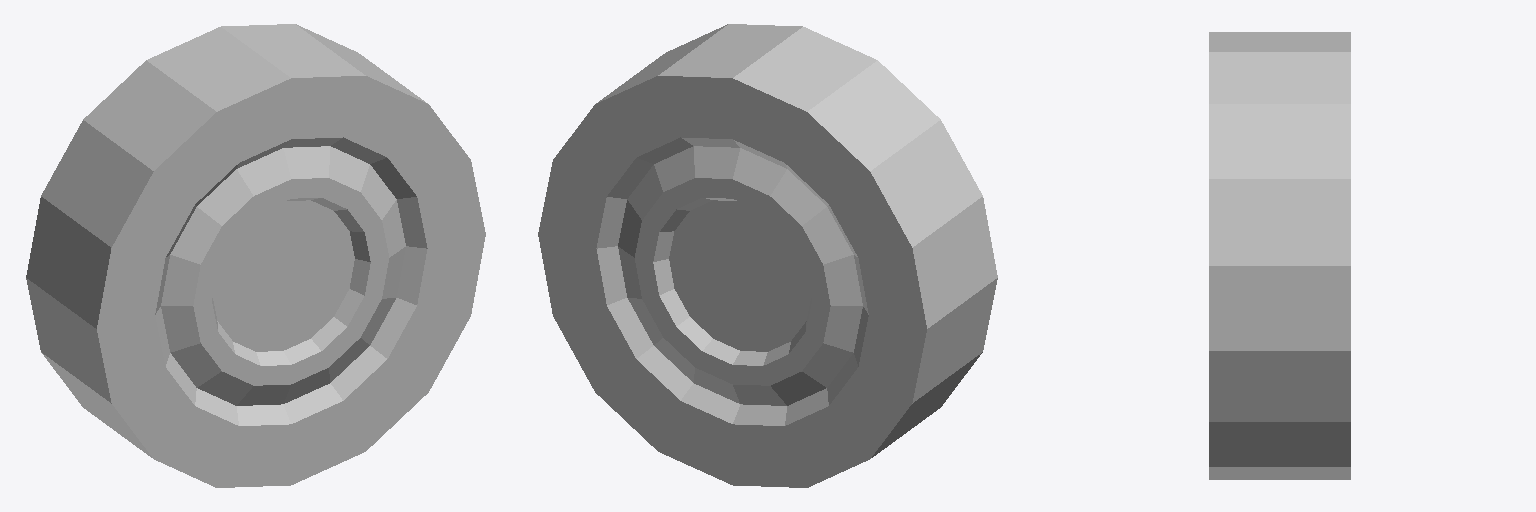
The model's file is vw-polo-wheel.obj.
3 renders of one model, left to right at view 1: azimuth 30°, elevation 25°; view 2: azimuth 150°, elevation 25°; view 3: azimuth 270°, elevation 25°, orthographic.
Visible parts, largest first — view 1: wheel_Circle; view 2: wheel_Circle; view 3: wheel_Circle.
Part boxes in pixels (x1,y1,x2,y2): wheel_Circle: (26,24,485,487); wheel_Circle: (538,24,997,487); wheel_Circle: (1209,32,1350,479).
Size of the model in its own units: 0.572 by 0.572 by 0.18.